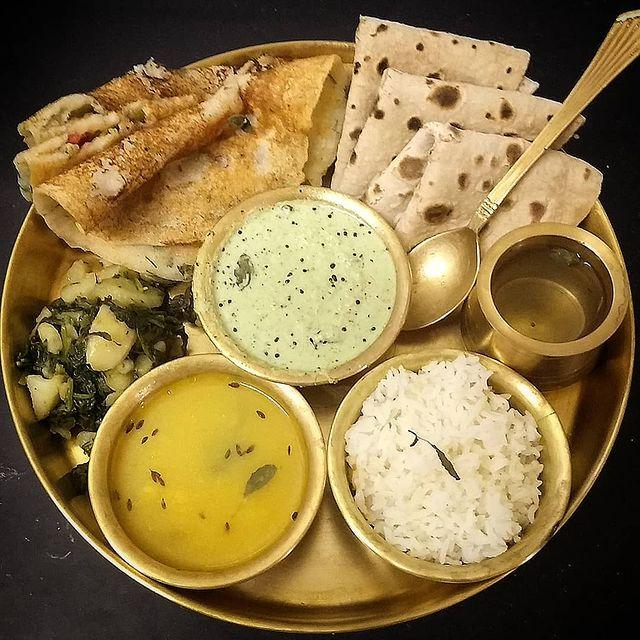Roti: (341, 14, 598, 237)
White Rice: (336, 358, 570, 581)
